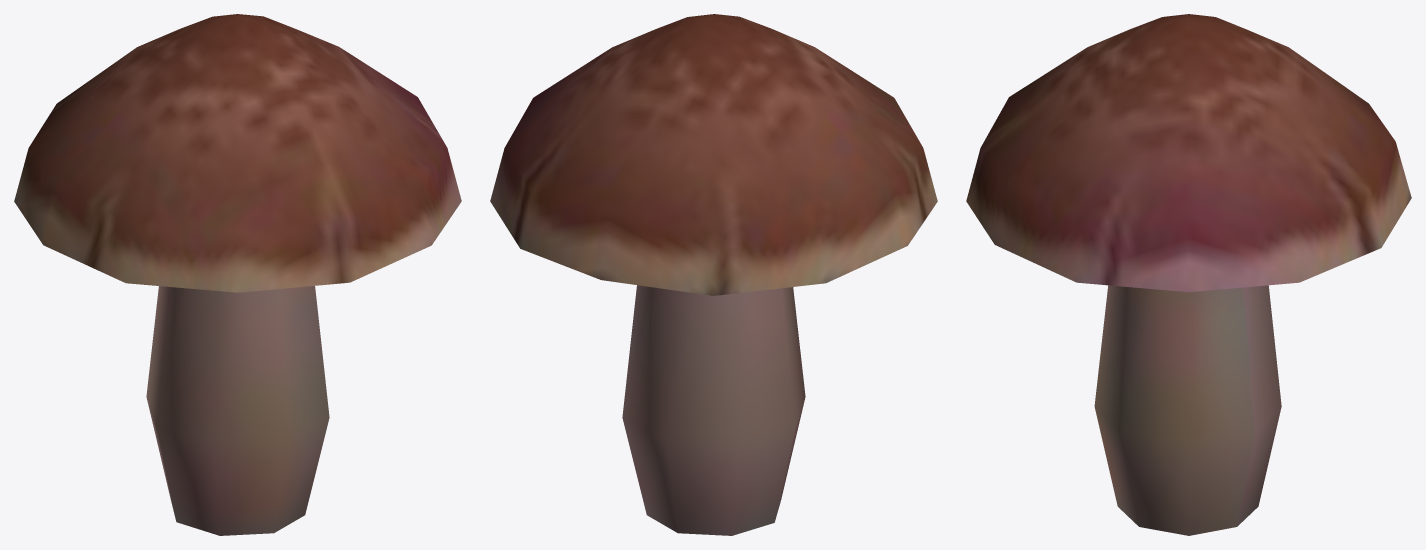
Rendered from Yegesl_mg03.FBX.
3 views of the same model, side by side, from view 1: azimuth 30°, elevation 25°; view 2: azimuth 150°, elevation 25°; view 3: azimuth 270°, elevation 25° (orthographic).
Visible parts, largest first — view 1: Yegesl_mg03; view 2: Yegesl_mg03; view 3: Yegesl_mg03.
Boxes of the visible parts, left/top/right/bottom form: Yegesl_mg03: left=14, top=14, right=461, bottom=535; Yegesl_mg03: left=490, top=14, right=937, bottom=535; Yegesl_mg03: left=966, top=14, right=1411, bottom=535.
Size of the model in its own units: 51.69 by 51.48 by 62.4.
